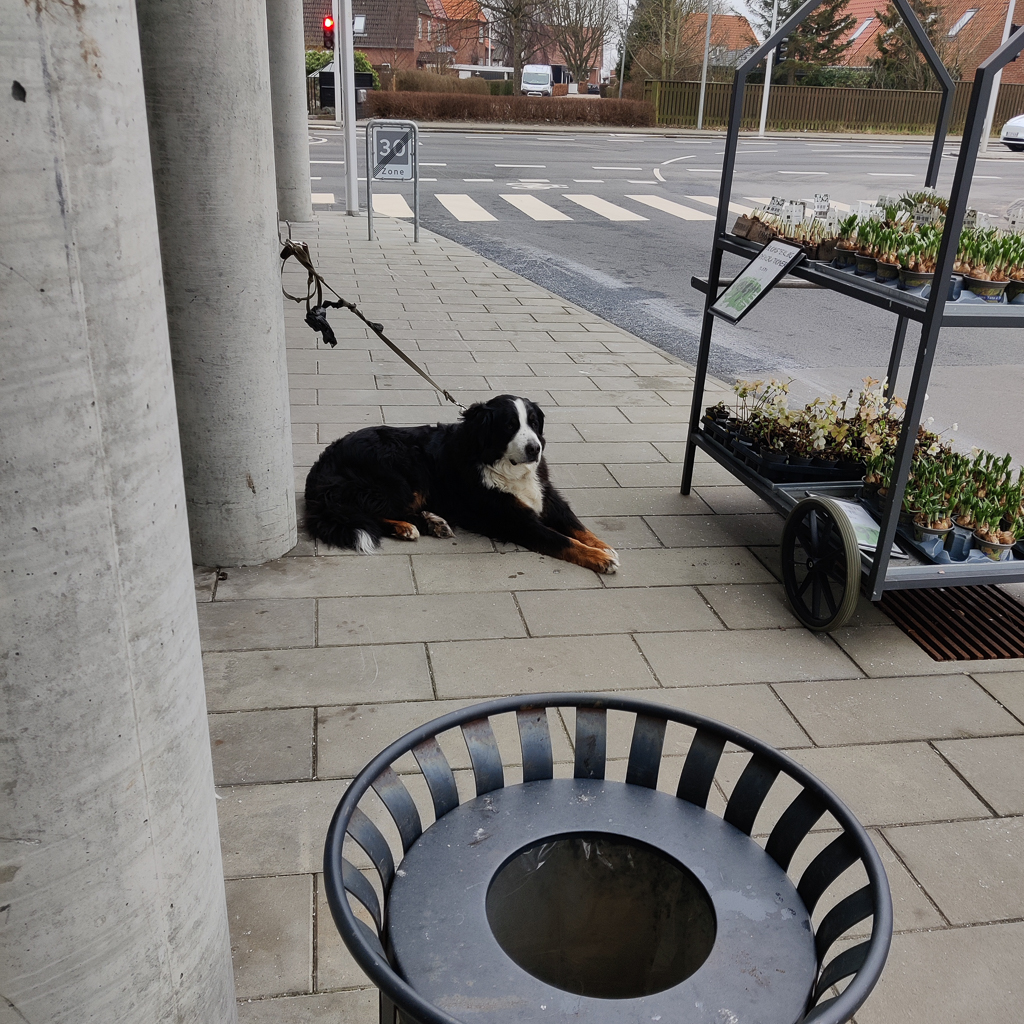Dog: (292, 384, 624, 578)
